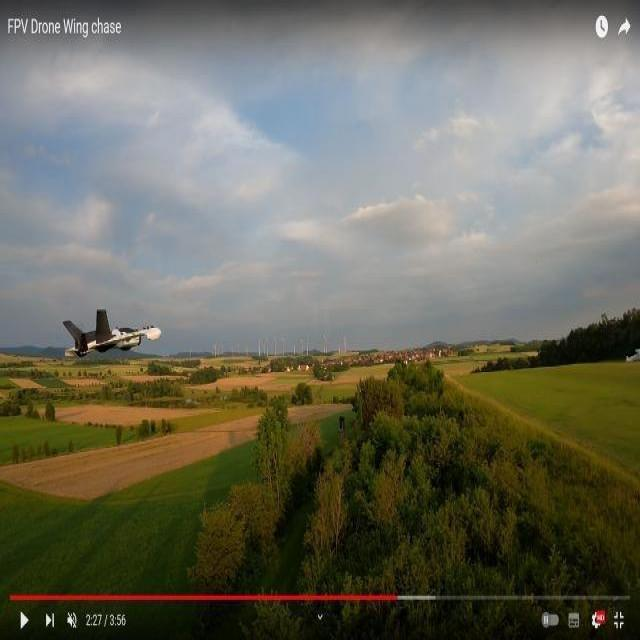Airplane: (59, 306, 166, 359)
